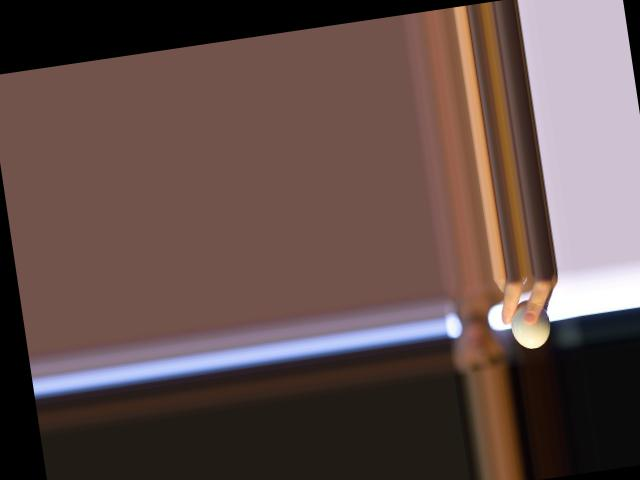egg: (506, 297, 552, 351)
